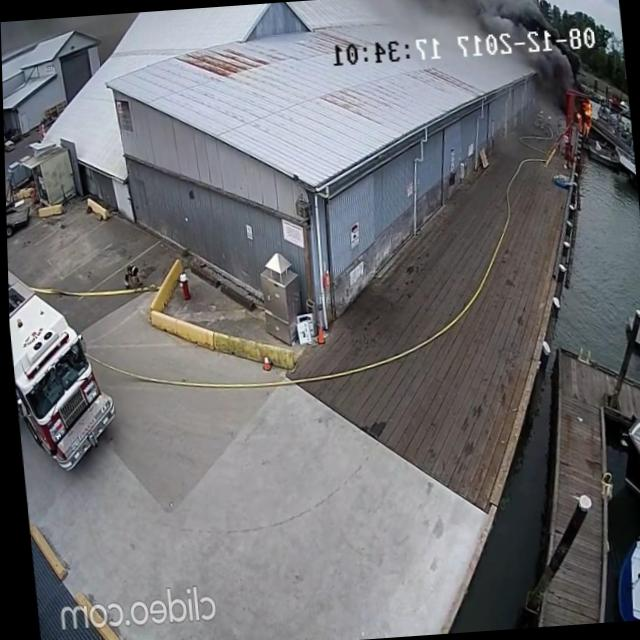fire: (574, 95, 596, 138)
